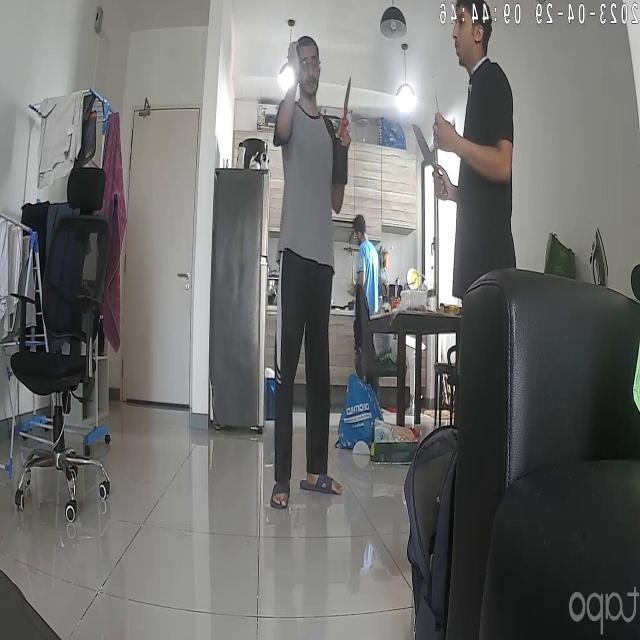Knife: (406, 117, 449, 196), (336, 72, 366, 138)
